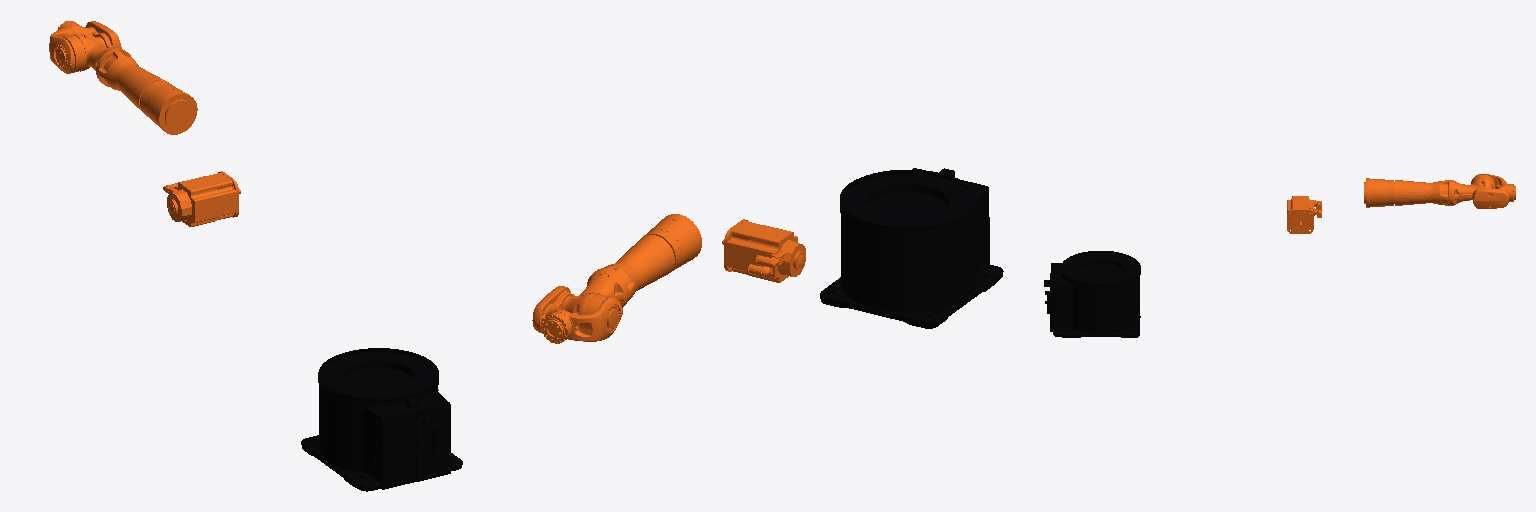
URDF robot description (cabka_robot1):
<?xml version="1.0" ?>
<!-- =================================================================================== -->
<!-- |    This document was autogenerated by xacro from [local-path]/mojer/catkin_ws/src/acroba_ros/acroba_resources/urdf/cabka_robot_camera.xacro | -->
<!-- |    EDITING THIS FILE BY HAND IS NOT RECOMMENDED                                 | -->
<!-- =================================================================================== -->
<robot name="cabka_robot1">
  <!-- colours based on RAL values given in "FAQ - Colours of robot and robot
       controller", version "KUKA.Tifs | 2010-01-21 |YM| DefaultColorsRobotAndController.doc",
       downloaded 2015-07-18 from
       http://www.kuka.be/main/cservice/faqs/hardware/DefaultColorsRobotAndController.pdf

       all RAL colours converted using http://www.visual-graphics.de/en/customer-care/ral-colours
  -->
  <link name="base_link">
    <visual>
      <origin rpy="0 0 0" xyz="0 0 0.0"/>
      <geometry>
        <mesh filename="package://acroba_resources/meshes/kuka_kr20/base.stl" scale="0.001 0.001 0.001"/>
      </geometry>
      <material name="">
        <color rgba="0.054901960784313725 0.054901960784313725 0.06274509803921569 1.0"/>
      </material>
    </visual>
    <collision>
      <origin rpy="0 0 0" xyz="0 0 0.0"/>
      <geometry>
        <mesh filename="package://acroba_resources/meshes/kuka_kr20/base_convex.stl" scale="0.001 0.001 0.001"/>
      </geometry>
    </collision>
    <inertial>
      <mass value="1"/>
      <inertia ixx="0.08333333333333333" ixy="0.0" ixz="0.0" iyy="0.08333333333333333" iyz="0.0" izz="0.08333333333333333"/>
    </inertial>
  </link>
  <!--z coord from cad-->
  <link name="link_1">
    <visual>
      <origin rpy="0 0 0" xyz="0 0 -0.250"/>
      <geometry>
        <mesh filename="package://acroba_resources/meshes/kuka_kr20/link1.stl" scale="0.001 0.001 0.001"/>
      </geometry>
      <material name="">
        <color rgba="0.9647058823529412 0.47058823529411764 0.1568627450980392 1.0"/>
      </material>
    </visual>
    <collision>
      <origin rpy="0 0 0" xyz="0 0 -0.250"/>
      <geometry>
        <mesh filename="package://acroba_resources/meshes/kuka_kr20/link1_convex.stl" scale="0.001 0.001 0.001"/>
      </geometry>
    </collision>
    <inertial>
      <mass value="1"/>
      <inertia ixx="0.08333333333333333" ixy="0.0" ixz="0.0" iyy="0.08333333333333333" iyz="0.0" izz="0.08333333333333333"/>
    </inertial>
  </link>
  <!--y coord from cad-->
  <link name="link_2">
    <visual>
      <origin rpy="0 0 0" xyz="-0.16 0.0889 -0.52"/>
      <geometry>
        <mesh filename="package://acroba_resources/meshes/kuka_kr20/link2.stl" scale="0.001 0.001 0.001"/>
      </geometry>
      <material name="">
        <color rgba="0.9647058823529412 0.47058823529411764 0.1568627450980392 1.0"/>
      </material>
    </visual>
    <collision>
      <origin rpy="0 0 0" xyz="-0.16 0.0889 -0.52"/>
      <geometry>
        <mesh filename="package://acroba_resources/meshes/kuka_kr20/link2_convex.stl" scale="0.001 0.001 0.001"/>
      </geometry>
    </collision>
    <inertial>
      <mass value="1"/>
      <inertia ixx="0.08333333333333333" ixy="0.0" ixz="0.0" iyy="0.08333333333333333" iyz="0.0" izz="0.08333333333333333"/>
    </inertial>
  </link>
  <!-- y coord from cad-->
  <link name="link_3">
    <visual>
      <origin rpy="0 0 0" xyz="-0.16 0.0978 -1.30"/>
      <geometry>
        <mesh filename="package://acroba_resources/meshes/kuka_kr20/link3.stl" scale="0.001 0.001 0.001"/>
      </geometry>
      <material name="">
        <color rgba="0.9647058823529412 0.47058823529411764 0.1568627450980392 1.0"/>
      </material>
    </visual>
    <collision>
      <origin rpy="0 0 0" xyz="-0.16 0.0978 -1.30"/>
      <geometry>
        <mesh filename="package://acroba_resources/meshes/kuka_kr20/link3_convex.stl" scale="0.001 0.001 0.001"/>
      </geometry>
    </collision>
    <inertial>
      <mass value="1"/>
      <inertia ixx="0.08333333333333333" ixy="0.0" ixz="0.0" iyy="0.08333333333333333" iyz="0.0" izz="0.08333333333333333"/>
    </inertial>
  </link>
  <!-- y coord from cad-->
  <link name="link_3_1">
    <visual>
      <origin rpy="0 0 0" xyz="-0.16 0.006 -1.30"/>
      <geometry>
        <mesh filename="package://acroba_resources/meshes/kuka_kr20/link3_1.stl" scale="0.001 0.001 0.001"/>
      </geometry>
      <material name="">
        <color rgba="0.9647058823529412 0.47058823529411764 0.1568627450980392 1.0"/>
      </material>
    </visual>
    <collision>
      <origin rpy="0 0 0" xyz="-0.16 0.006 -1.30"/>
      <geometry>
        <mesh filename="package://acroba_resources/meshes/kuka_kr20/link3_1_convex.stl" scale="0.001 0.001 0.001"/>
      </geometry>
    </collision>
    <inertial>
      <mass value="1"/>
      <inertia ixx="0.08333333333333333" ixy="0.0" ixz="0.0" iyy="0.08333333333333333" iyz="0.0" izz="0.08333333333333333"/>
    </inertial>
  </link>
  <link name="link_4">
    <visual>
      <origin rpy="0 0 0" xyz="-0.46 0 -1.45"/>
      <geometry>
        <mesh filename="package://acroba_resources/meshes/kuka_kr20/link4.stl" scale="0.001 0.001 0.001"/>
      </geometry>
      <material name="">
        <color rgba="0.9647058823529412 0.47058823529411764 0.1568627450980392 1.0"/>
      </material>
    </visual>
    <collision>
      <origin rpy="0 0 0" xyz="-0.46 0 -1.45"/>
      <geometry>
        <mesh filename="package://acroba_resources/meshes/kuka_kr20/link4_convex.stl" scale="0.001 0.001 0.001"/>
      </geometry>
    </collision>
    <inertial>
      <mass value="1"/>
      <inertia ixx="0.08333333333333333" ixy="0.0" ixz="0.0" iyy="0.08333333333333333" iyz="0.0" izz="0.08333333333333333"/>
    </inertial>
  </link>
  <link name="link_5">
    <visual>
      <origin rpy="0 0 0" xyz="-0.87 0 -1.45"/>
      <geometry>
        <mesh filename="package://acroba_resources/meshes/kuka_kr20/link5.stl" scale="0.001 0.001 0.001"/>
      </geometry>
      <material name="">
        <color rgba="0.9647058823529412 0.47058823529411764 0.1568627450980392 1.0"/>
      </material>
    </visual>
    <collision>
      <origin rpy="0 0 0" xyz="-0.87 0 -1.45"/>
      <geometry>
        <mesh filename="package://acroba_resources/meshes/kuka_kr20/link5_convex.stl" scale="0.001 0.001 0.001"/>
      </geometry>
    </collision>
    <inertial>
      <mass value="1"/>
      <inertia ixx="0.08333333333333333" ixy="0.0" ixz="0.0" iyy="0.08333333333333333" iyz="0.0" izz="0.08333333333333333"/>
    </inertial>
  </link>
  <link name="link_6">
    <visual>
      <origin rpy="0 0 0" xyz="-1.02 0 -1.45"/>
      <geometry>
        <mesh filename="package://acroba_resources/meshes/kuka_kr20/link6.stl" scale="0.001 0.001 0.001"/>
      </geometry>
      <material name="">
        <color rgba="0.9647058823529412 0.47058823529411764 0.1568627450980392 1.0"/>
      </material>
    </visual>
    <collision>
      <origin rpy="0 0 0" xyz="-1.02 0 -1.45"/>
      <geometry>
        <mesh filename="package://acroba_resources/meshes/kuka_kr20/link6_convex.stl" scale="0.001 0.001 0.001"/>
      </geometry>
    </collision>
    <inertial>
      <mass value="1"/>
      <inertia ixx="0.08333333333333333" ixy="0.0" ixz="0.0" iyy="0.08333333333333333" iyz="0.0" izz="0.08333333333333333"/>
    </inertial>
  </link>
  <link name="link_7">
    <visual>
      <origin rpy="0 0 0" xyz="-1.173 0 -1.45"/>
      <geometry>
        <mesh filename="package://acroba_resources/meshes/kuka_kr20/link_ee.stl" scale="0.001 0.001 0.001"/>
      </geometry>
      <material name="">
        <color rgba="0.9647058823529412 0.47058823529411764 0.1568627450980392 1.0"/>
      </material>
    </visual>
    <collision>
      <origin rpy="0 0 0" xyz="-1.173 0 -1.45"/>
      <geometry>
        <mesh filename="package://acroba_resources/meshes/kuka_kr20/link_ee_convex.stl" scale="0.001 0.001 0.001"/>
      </geometry>
    </collision>
    <inertial>
      <mass value="1"/>
      <inertia ixx="0.08333333333333333" ixy="0.0" ixz="0.0" iyy="0.08333333333333333" iyz="0.0" izz="0.08333333333333333"/>
    </inertial>
  </link>
  <!--JOINTS-->
  <!-- the joint coordinate are the substaction between their coordinates (child-parent)*-1-->
  <joint name="joint_a1" type="revolute">
    <origin rpy="0 0 0" xyz="0 0 0.250"/>
    <parent link="base_link"/>
    <child link="link_1"/>
    <axis xyz="0 0 -1"/>
    <dynamics damping="0.7"/>
    <limit effort="0" lower="-3.2288591161895095" upper="3.2288591161895095" velocity="3.490658503988659"/>
  </joint>
  <joint name="joint_a2" type="revolute">
    <origin rpy="0 1.57 0 " xyz="0.16 -0.0889 0.27"/>
    <parent link="link_1"/>
    <child link="link_2"/>
    <axis xyz="0 1 0"/>
    <dynamics damping="0.7"/>
    <limit effort="0" lower="-3.2288591161895095" upper="1.1344640137963142" velocity="3.0543261909900767"/>
  </joint>
  <joint name="joint_a3" type="revolute">
    <origin rpy="0 -1.57 0" xyz="0 -0.009 0.78"/>
    <parent link="link_2"/>
    <child link="link_3"/>
    <axis xyz="0 1 0"/>
    <dynamics damping="0.7"/>
    <limit effort="0" lower="-2.4085543677521746" upper="3.0543261909900767" velocity="3.3161255787892263"/>
  </joint>
  <joint name="joint_fixed_1" type="fixed">
    <origin rpy="0 0 0" xyz="0.0 0.091 0"/>
    <parent link="link_3"/>
    <child link="link_3_1"/>
  </joint>
  <joint name="joint_a4" type="revolute">
    <origin rpy="0 0 0" xyz="0.3 0.0978 0.15"/>
    <parent link="link_3"/>
    <child link="link_4"/>
    <axis xyz="-1 0 0"/>
    <dynamics damping="0.7"/>
    <limit effort="0" lower="-6.1086523819801535" upper="6.1086523819801535" velocity="7.504915783575617"/>
  </joint>
  <joint name="joint_fixed_2" type="fixed">
    <origin rpy="0 0 0" xyz="0.41 0 0"/>
    <parent link="link_4"/>
    <child link="link_5"/>
  </joint>
  <joint name="joint_a5" type="revolute">
    <origin rpy="0 0 0" xyz="0.15 0 0"/>
    <parent link="link_5"/>
    <child link="link_6"/>
    <axis xyz="0 1 0"/>
    <dynamics damping="0.7"/>
    <limit effort="0" lower="-2.0943951023931953" upper="2.0943951023931953" velocity="7.504915783575617"/>
  </joint>
  <joint name="joint_a6" type="revolute">
    <origin rpy="0 0 0" xyz="0.153 0 0"/>
    <parent link="link_6"/>
    <child link="link_7"/>
    <axis xyz="-1 0 0"/>
    <dynamics damping="0.7"/>
    <limit effort="0" lower="-6.1086523819801535" upper="6.1086523819801535" velocity="10.995574287564276"/>
  </joint>
  <!-- ROS base_link to UR 'Base' Coordinates transform -->
  <link name="base"/>
  <joint name="base_link-base_fixed_joint" type="fixed">
    <origin rpy="0 0 0" xyz="0 0 0"/>
    <parent link="base_link"/>
    <child link="base"/>
  </joint>
  <!-- ROS-Industrial 'flange' frame: attachment point for EEF models -->
  <link name="flange"/>
  <joint name="joint_6-flange" type="fixed">
    <origin rpy="0 0 0" xyz="0 0 0"/>
    <parent link="link_7"/>
    <child link="flange"/>
  </joint>
  <!-- ROS-Industrial 'tool0' frame: all-zeros tool frame -->
  <link name="tool0"/>
  <joint name="link_6-tool0" type="fixed">
    <origin rpy="0 -1.5707963267948966 3.141592653589793" xyz="0 0 0.001"/>
    <parent link="link_7"/>
    <child link="tool0"/>
  </joint>
  <!--Gazebo robot control-->
  <!--<gazebo>
      <plugin name="gazebo_ros_control" filename="libgazebo_ros_control.so">
        <robotNamespace>/kr20r1810</robotNamespace>
       
      </plugin>
    </gazebo>-->
  <gazebo reference="base_link">
    <mu1>0.2</mu1>
    <mu2>0.2</mu2>
    <material>Gazebo/Black</material>
  </gazebo>
  <!-- Link1 -->
  <gazebo reference="link_1">
    <material>Gazebo/Orange</material>
  </gazebo>
  <gazebo reference="link_2">
    <material>Gazebo/Orange</material>
  </gazebo>
  <!-- Link2 -->
  <gazebo reference="link_3">
    <mu1>0.2</mu1>
    <mu2>0.2</mu2>
    <material>Gazebo/Orange</material>
  </gazebo>
  <!-- Link3 -->
  <gazebo reference="link_3_1">
    <mu1>0.2</mu1>
    <mu2>0.2</mu2>
    <material>Gazebo/Orange</material>
  </gazebo>
  <gazebo reference="link_4">
    <mu1>0.2</mu1>
    <mu2>0.2</mu2>
    <material>Gazebo/Orange</material>
  </gazebo>
  <gazebo reference="link_5">
    <mu1>0.2</mu1>
    <mu2>0.2</mu2>
    <material>Gazebo/Orange</material>
  </gazebo>
  <gazebo reference="link_6">
    <mu1>0.2</mu1>
    <mu2>0.2</mu2>
    <material>Gazebo/Orange</material>
  </gazebo>
  <transmission name="joint_a1_trans">
    <type>transmission_interface/SimpleTransmission</type>
    <joint name="joint_a1">
      <hardwareInterface>hardware_interface/PositionJointInterface</hardwareInterface>
    </joint>
    <actuator name="joint_a1_motor">
      <hardwareInterface>hardware_interface/PositionJointInterface</hardwareInterface>
      <mechanicalReduction>1</mechanicalReduction>
    </actuator>
  </transmission>
  <transmission name="joint_a2_trans">
    <type>transmission_interface/SimpleTransmission</type>
    <joint name="joint_a2">
      <hardwareInterface>hardware_interface/PositionJointInterface</hardwareInterface>
    </joint>
    <actuator name="joint_a2_motor">
      <hardwareInterface>hardware_interface/PositionJointInterface</hardwareInterface>
      <mechanicalReduction>1</mechanicalReduction>
    </actuator>
  </transmission>
  <transmission name="joint_a3_trans">
    <type>transmission_interface/SimpleTransmission</type>
    <joint name="joint_a3">
      <hardwareInterface>hardware_interface/PositionJointInterface</hardwareInterface>
    </joint>
    <actuator name="joint_a3_motor">
      <hardwareInterface>hardware_interface/PositionJointInterface</hardwareInterface>
      <mechanicalReduction>1</mechanicalReduction>
    </actuator>
  </transmission>
  <transmission name="joint_a4_trans">
    <type>transmission_interface/SimpleTransmission</type>
    <joint name="joint_a4">
      <hardwareInterface>hardware_interface/PositionJointInterface</hardwareInterface>
    </joint>
    <actuator name="joint_a4_motor">
      <hardwareInterface>hardware_interface/PositionJointInterface</hardwareInterface>
      <mechanicalReduction>1</mechanicalReduction>
    </actuator>
  </transmission>
  <transmission name="joint_a5_trans">
    <type>transmission_interface/SimpleTransmission</type>
    <joint name="joint_a5">
      <hardwareInterface>hardware_interface/PositionJointInterface</hardwareInterface>
    </joint>
    <actuator name="joint_a5_motor">
      <hardwareInterface>hardware_interface/PositionJointInterface</hardwareInterface>
      <mechanicalReduction>1</mechanicalReduction>
    </actuator>
  </transmission>
  <transmission name="joint_a6_trans">
    <type>transmission_interface/SimpleTransmission</type>
    <joint name="joint_a6">
      <hardwareInterface>hardware_interface/PositionJointInterface</hardwareInterface>
    </joint>
    <actuator name="joint_a6_motor">
      <hardwareInterface>hardware_interface/PositionJointInterface</hardwareInterface>
      <mechanicalReduction>1</mechanicalReduction>
    </actuator>
  </transmission>
  <!-- Zivid Base Link -->
  <link name="base_camera">
    <!-- Visuals -->
    <visual>
      <origin rpy="1.5707963267948966 0 1.5707963267948966" xyz="-0.0030 -0.0758 0.0445"/>
      <material name="blue">
        <color rgba="0.25 0.25 0.25 1"/>
      </material>
      <geometry>
        <mesh filename="package://acroba_resources/meshes/sensors/zivid_one_plus/visual/zivid_one_plus.stl" scale="0.001 0.001 0.001"/>
      </geometry>
    </visual>
    <!-- Collisions -->
    <collision>
      <origin rpy="1.5707963267948966 0 1.5707963267948966" xyz="-0.0030 -0.0758 0.0445"/>
      <geometry>
        <mesh filename="package://acroba_resources/meshes/sensors/zivid_one_plus/collision/zivid_one_plus.stl" scale="0.001 0.001 0.001"/>
      </geometry>
    </collision>
    <!-- Inertia-->
    <inertial>
      <origin rpy="0 0 0" xyz="-0.00936000000 -0.00003000000 -0.00273000000"/>
      <mass value="2"/>
      <inertia ixx="0.00000429247" ixy="0.00000000000" ixz="0.00000002565" iyy="0.00000008027" iyz="0.00000000000" izz="0.00000427339"/>
    </inertial>
  </link>
  <!-- Zivid Optical (Measurement) and Projector Frames -->
  <link name="optical_frame"/>
  <link name="projector_frame"/>
  <gazebo reference="gazebo_cam_link">
    <!-- Depth (rgb) -->
    <sensor name="_frame_sensor" type="depth">
      <always_on>true</always_on>
      <update_rate>5.0</update_rate>
      <camera>
        <image>
          <format>R8G8B8</format>
          <width>1534</width>
          <!--1944 in dataset,1534 in practise-->
          <height>1150</height>
          <!--1222 in dataset, 1150 in practise-->
        </image>
        <horizontal_fov>0.471</horizontal_fov>
        <!-- According to the specification 27º-->
        <clip>
          <near>0.1</near>
          <far>1</far>
        </clip>
      </camera>
      <plugin filename="libgazebo_ros_openni_kinect.so" name="_frame_controller">
        <alwaysOn>true</alwaysOn>
        <updateRate>0.0</updateRate>
        <cameraName></cameraName>
        <imageTopicName>rgb/image_raw</imageTopicName>
        <cameraInfoTopicName>rgb/camera_info</cameraInfoTopicName>
        <depthImageTopicName>depth/image_raw</depthImageTopicName>
        <depthImageCameraInfoTopicName>depth/camera_info</depthImageCameraInfoTopicName>
        <pointCloudTopicName>depth/points</pointCloudTopicName>
        <frameName>_optical_frame</frameName>
        <pointCloudCutoff>0.05</pointCloudCutoff>
        <pointCloudCutoffMax>5</pointCloudCutoffMax>
        <rangeMax>4.0</rangeMax>
        <!-- Distortion parameters not supported in gazebo 1.9.* plugins -->
        <!--distortionK1>0.00000001</distortionK1>
          <distortionK2>0.00000001</distortionK2>
          <distortionK3>0.00000001</distortionK3>
          <distortionT1>0.00000001</distortionT1>
          <distortionT2>0.00000001</distortionT2-->
      </plugin>
    </sensor>
  </gazebo>
  <!-- Zivid Optical (Measurement) and Projector Joints -->
  <joint name="optical_joint" type="fixed">
    <origin rpy="-1.5707963267948966 0 -1.7191493132144147" xyz="0.065 0.062 0.0445"/>
    <parent link="base_camera"/>
    <child link="optical_frame"/>
  </joint>
  <joint name="projector_joint" type="fixed">
    <origin rpy="-1.5707963267948966 0 -1.5707963267948966" xyz="-0.0030 -0.0758 0.0445"/>
    <parent link="base_camera"/>
    <child link="projector_frame"/>
  </joint>
  <!--joint for the gazebo plugin-->
  <link name="gazebo_cam_link"/>
  <joint name="gazebo_joint" type="fixed">
    <origin rpy="1.5707963267948966 -1.5707963267948966 0" xyz="0.0 0.0 0.0"/>
    <parent link="optical_frame"/>
    <child link="gazebo_cam_link"/>
  </joint>
  <link name="world"/>
  <joint name="world_joint" type="fixed">
    <parent link="world"/>
    <child link="base_link"/>
    <origin xyz= "-1.44599997997284 -1.37000000476837 0" rpy= "0 0 1.570796"/>
  </joint>
  <joint name="tool_joint" type="fixed">
    <parent link="tool0"/>
    <child link="base_camera"/>
    <origin rpy="0.000000 0.000000 3.1415926" xyz="0.000000 0.000000 0.0"/>
  </joint>
</robot>

--- Facts derived from the render (not from the file) ---
3 views of the same robot in one strip: view 1: azimuth 30°, elevation 25°; view 2: azimuth 150°, elevation 25°; view 3: azimuth 270°, elevation 25° (orthographic).
Robot: cabka_robot1 — 17 links, 16 joints (6 revolute, 10 fixed); root link world; default pose: all joints at 0.
Links seen in each view (by area): view 1: base_link, link_4, link_3_1, link_6, link_5; view 2: base_link, link_4, link_3_1, link_6, link_5; view 3: base_link, link_4, link_3_1, link_6, link_5.
Boxes of the visible links, x1=… form: base_link: x1=301, y1=348, x2=462, y2=491; link_4: x1=98, y1=49, x2=197, y2=134; link_3_1: x1=163, y1=171, x2=240, y2=226; link_6: x1=49, y1=21, x2=121, y2=73; link_5: x1=63, y1=34, x2=124, y2=83; base_link: x1=820, y1=168, x2=1003, y2=328; link_4: x1=598, y1=214, x2=701, y2=304; link_3_1: x1=722, y1=219, x2=805, y2=282; link_6: x1=532, y1=286, x2=622, y2=343; link_5: x1=562, y1=269, x2=627, y2=314; base_link: x1=1044, y1=251, x2=1140, y2=337; link_4: x1=1364, y1=178, x2=1449, y2=207; link_3_1: x1=1287, y1=196, x2=1322, y2=233; link_6: x1=1471, y1=174, x2=1513, y2=208; link_5: x1=1450, y1=175, x2=1495, y2=205.
Bounding box of the posed robot: 0.3957 × 2.22 × 0.7396 m (x, y, z).
6 mesh visuals loaded from 10 distinct referenced files (6 binary STL); not drawn: 4 (reference not matched to a file when rendering).
